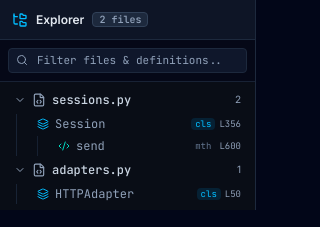
it: RepoFileTree Component Suite › filters file and symbol tree via search input
The image size is (320, 227).
Check: the text "sessions.py" is shown, box [52,92,131,108]
Type "HTTPAdapter" into the field with test id "file-tree-filter-input".
click(128, 60); type("HTTPAdapter")  # box [8,48,247,73]
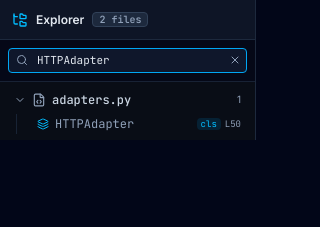
Check: the text "adapters.py" is shown, box [52,92,131,108]
Check: the button "sessions.py" is gone
